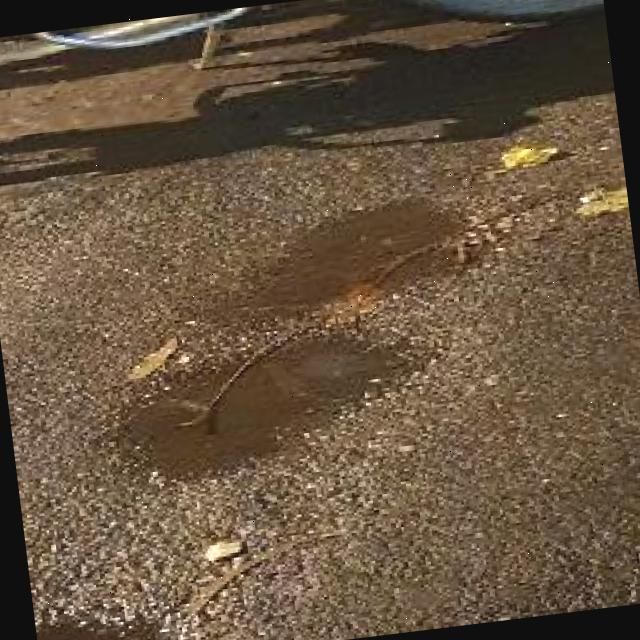stagnation: (106, 158, 480, 498)
